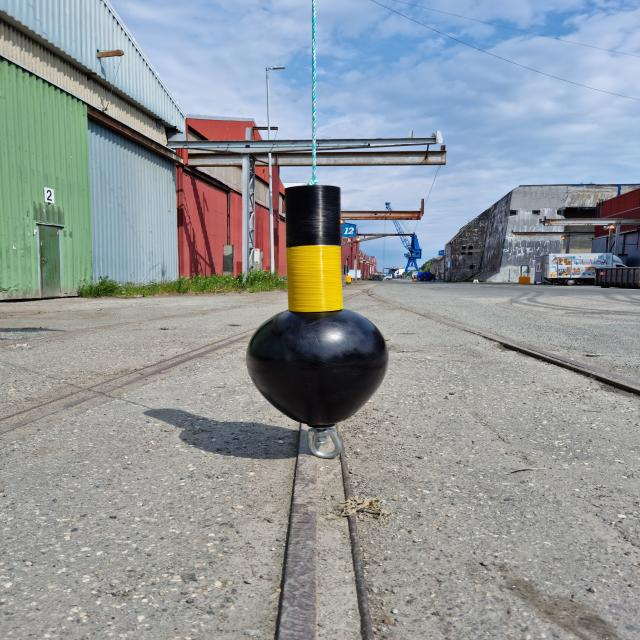east: (246, 185, 390, 427)
